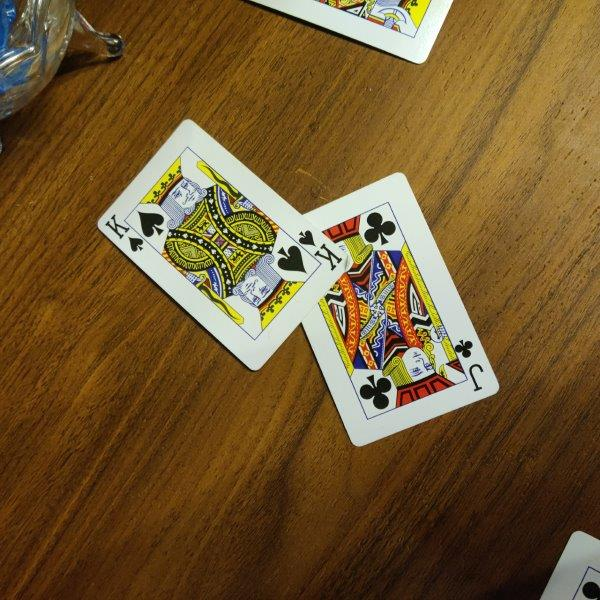Jack of Clubs: (302, 171, 500, 446)
King of Spades: (96, 119, 351, 372)
